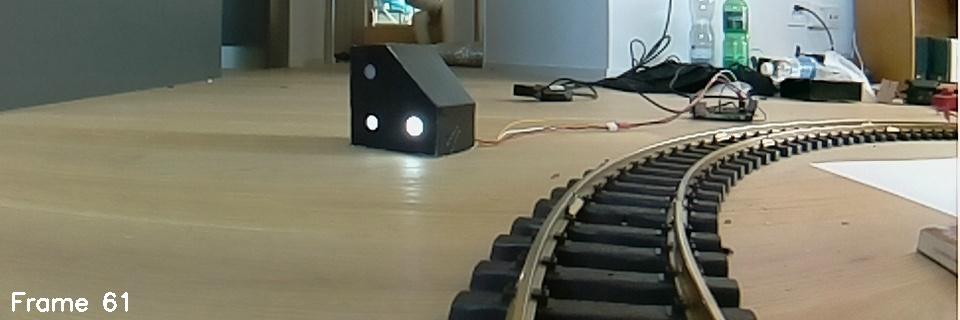Halt: (349, 41, 469, 157)
